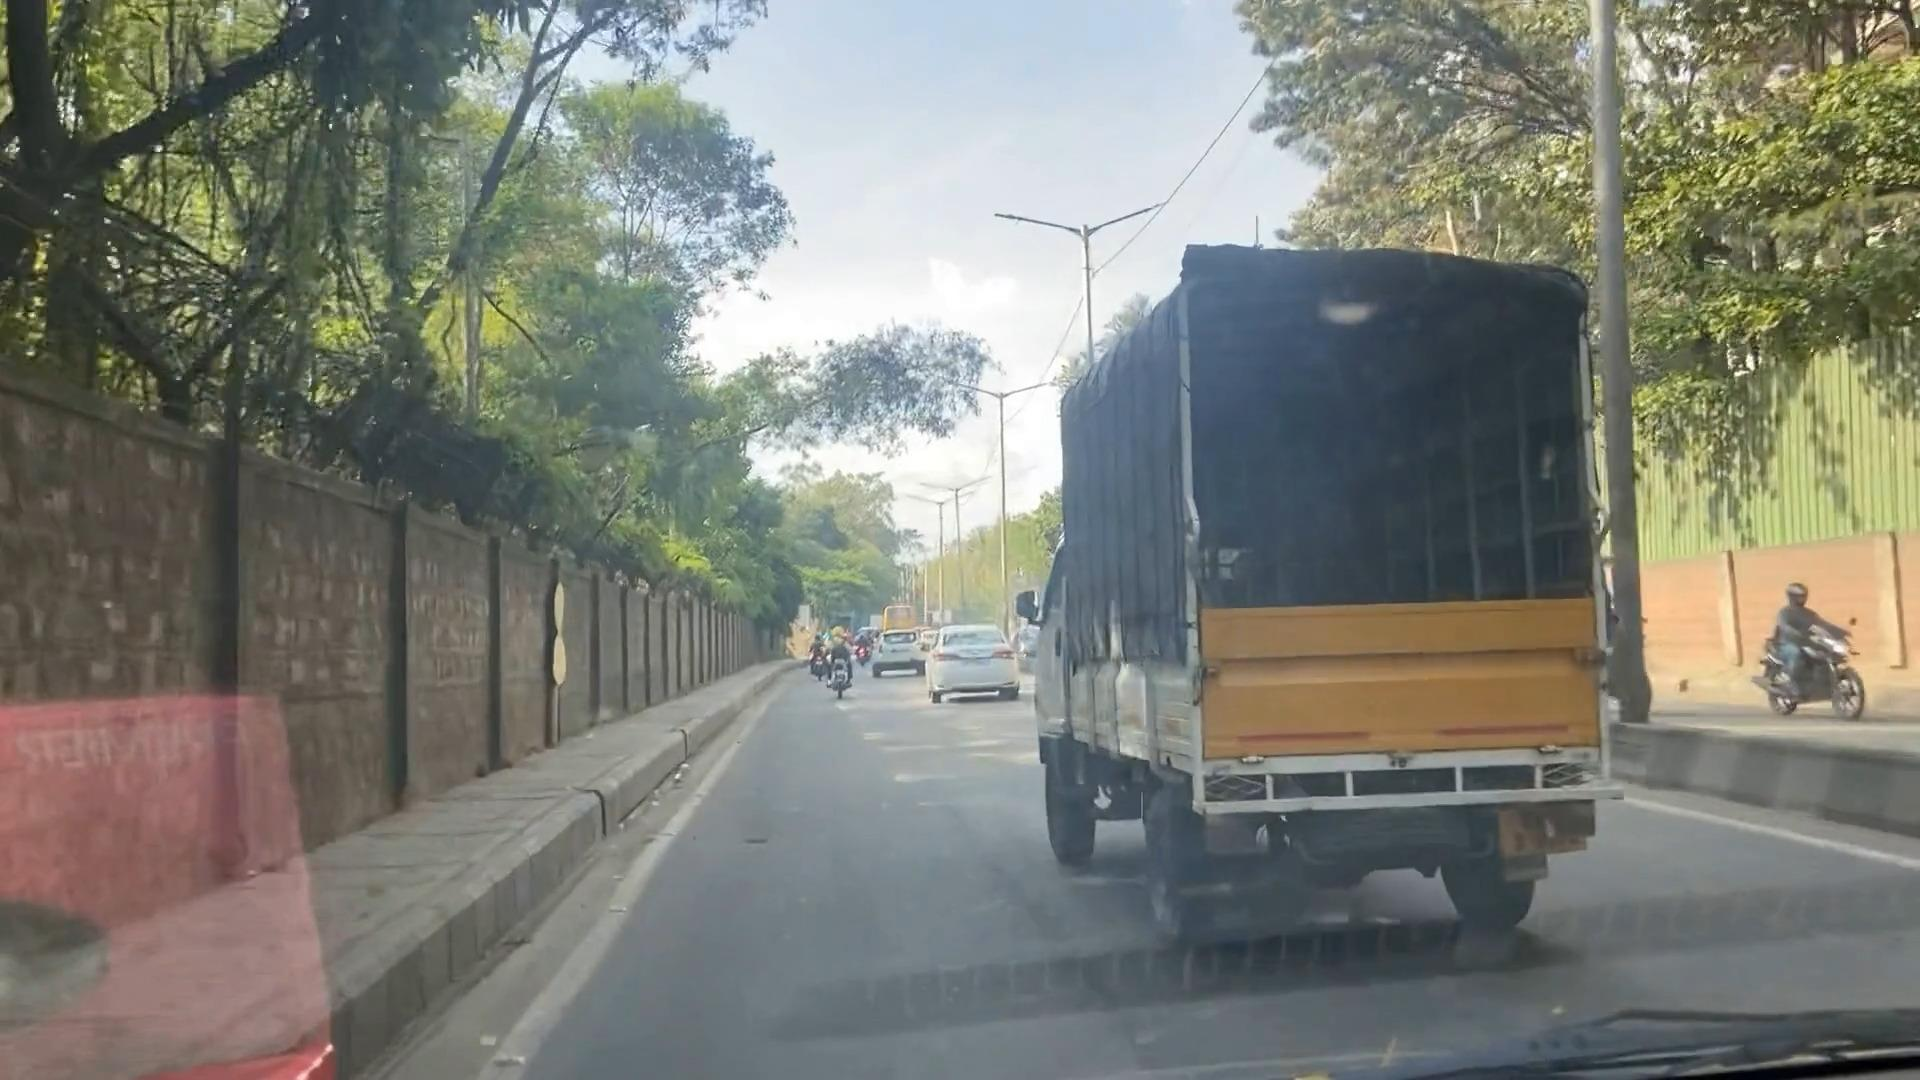HMV: (1034, 189, 1646, 971)
